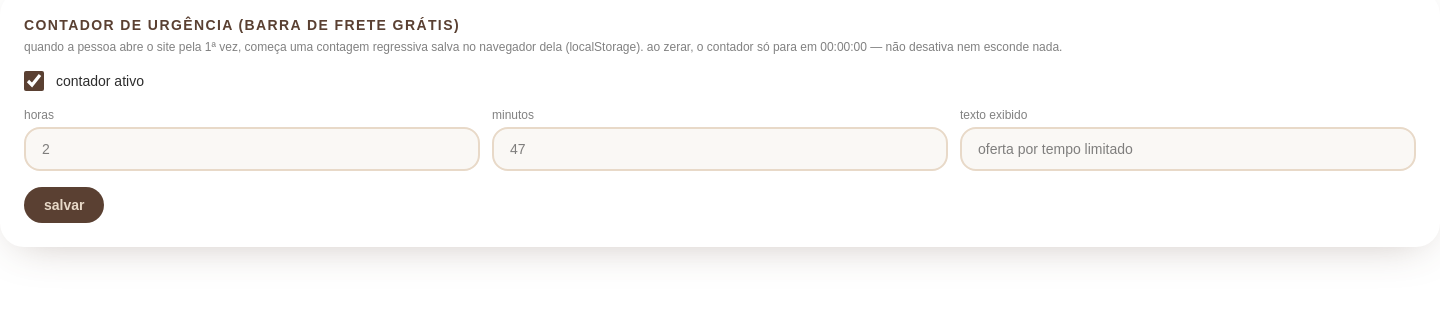
Test: UrgencyCountdownForm (9.2 admin) › mostra o erro do servidor quando o PATCH falha
Click the button "salvar".
click(64, 205)  # box x1=24 y1=187 x2=104 y2=223
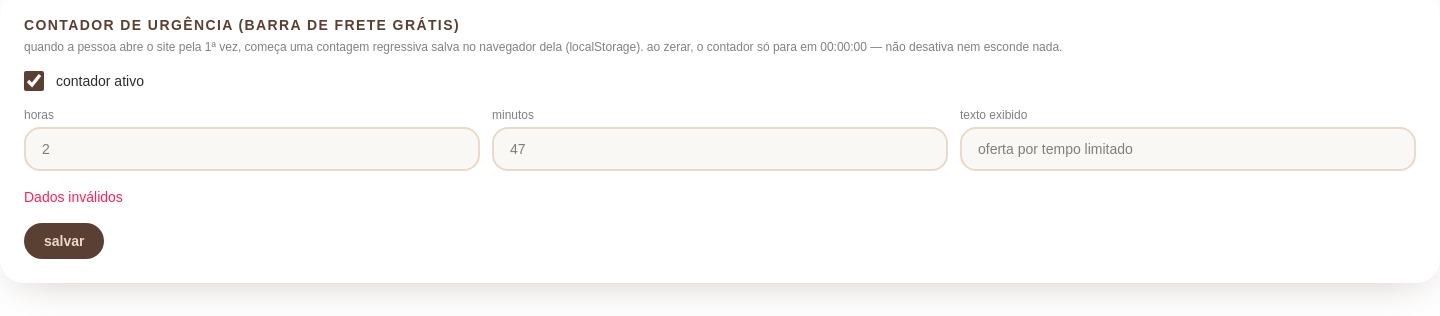
Expected: the text "Dados inválidos" is shown, x1=24 y1=189 x2=123 y2=205
